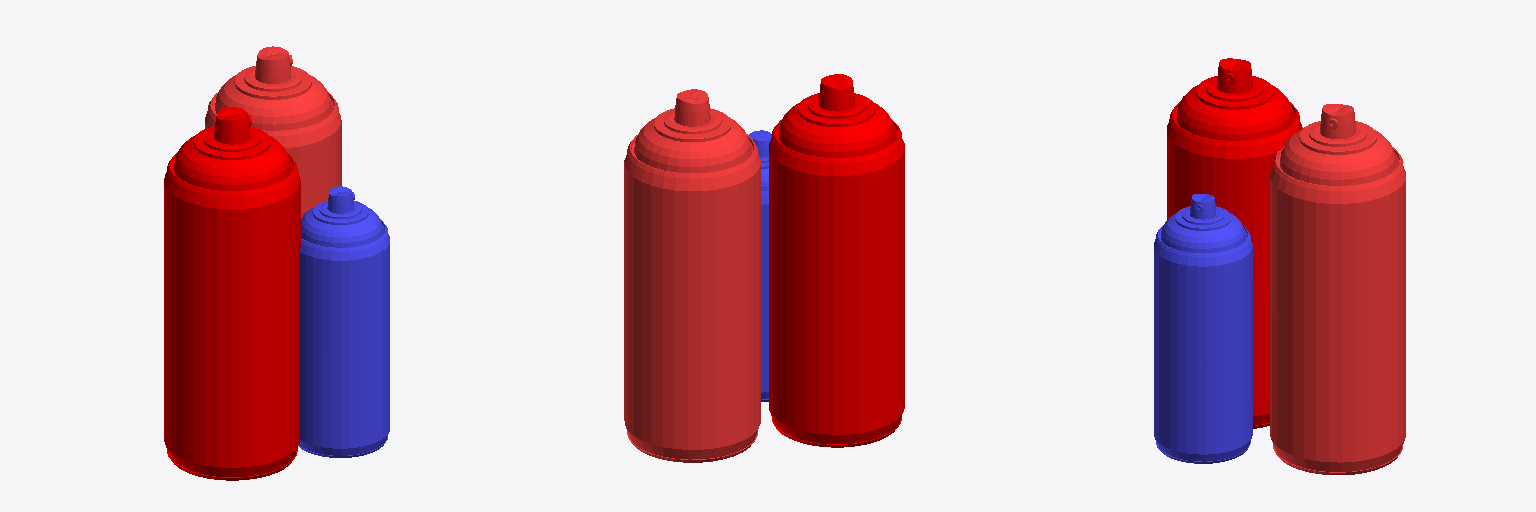
File: Spray_Color_obj.obj
The picture shows the model from 3 angles: view 1: azimuth 30°, elevation 25°; view 2: azimuth 150°, elevation 25°; view 3: azimuth 270°, elevation 25°; orthographic projection.
Parts seen in each view (by area): view 1: Spray_Color_obj7:Mesh, Spray_Color_obj6:Mesh, Spray_Color_obj:Mesh; view 2: Spray_Color_obj:Mesh, Spray_Color_obj7:Mesh, Spray_Color_obj6:Mesh; view 3: Spray_Color_obj:Mesh, Spray_Color_obj6:Mesh, Spray_Color_obj7:Mesh.
Boxes of the visible parts, x1=… form: Spray_Color_obj7:Mesh: x1=164, y1=107, x2=300, y2=480; Spray_Color_obj6:Mesh: x1=299, y1=186, x2=389, y2=457; Spray_Color_obj:Mesh: x1=205, y1=46, x2=341, y2=218; Spray_Color_obj:Mesh: x1=624, y1=89, x2=760, y2=462; Spray_Color_obj7:Mesh: x1=769, y1=74, x2=904, y2=447; Spray_Color_obj6:Mesh: x1=749, y1=130, x2=771, y2=401; Spray_Color_obj:Mesh: x1=1270, y1=104, x2=1405, y2=474; Spray_Color_obj6:Mesh: x1=1154, y1=194, x2=1252, y2=463; Spray_Color_obj7:Mesh: x1=1167, y1=58, x2=1302, y2=428.
Bounding box in the file's own units: 1.62 × 2.5 × 1.68.